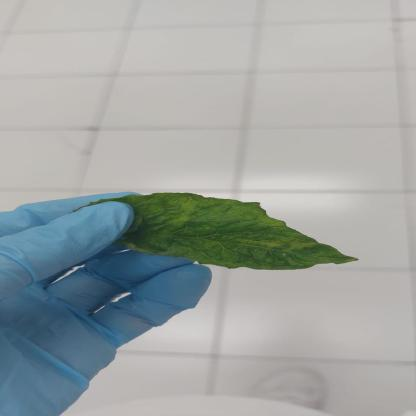T_L_R: (88, 194, 358, 271)
